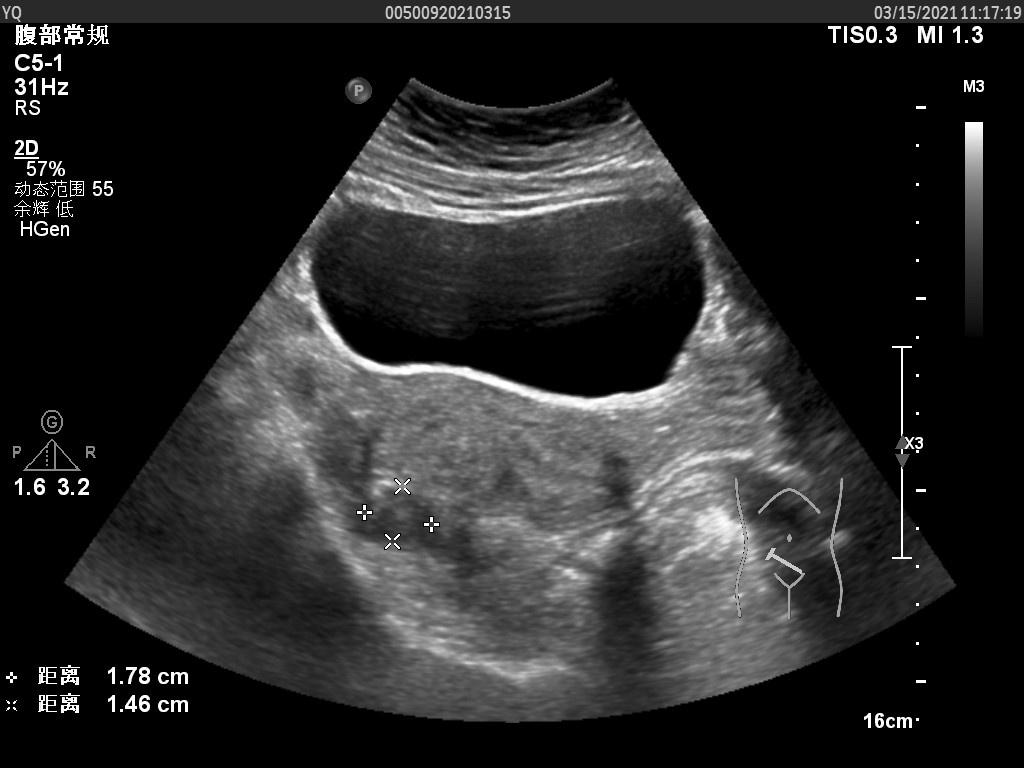肌瘤: (365, 483, 434, 542)
